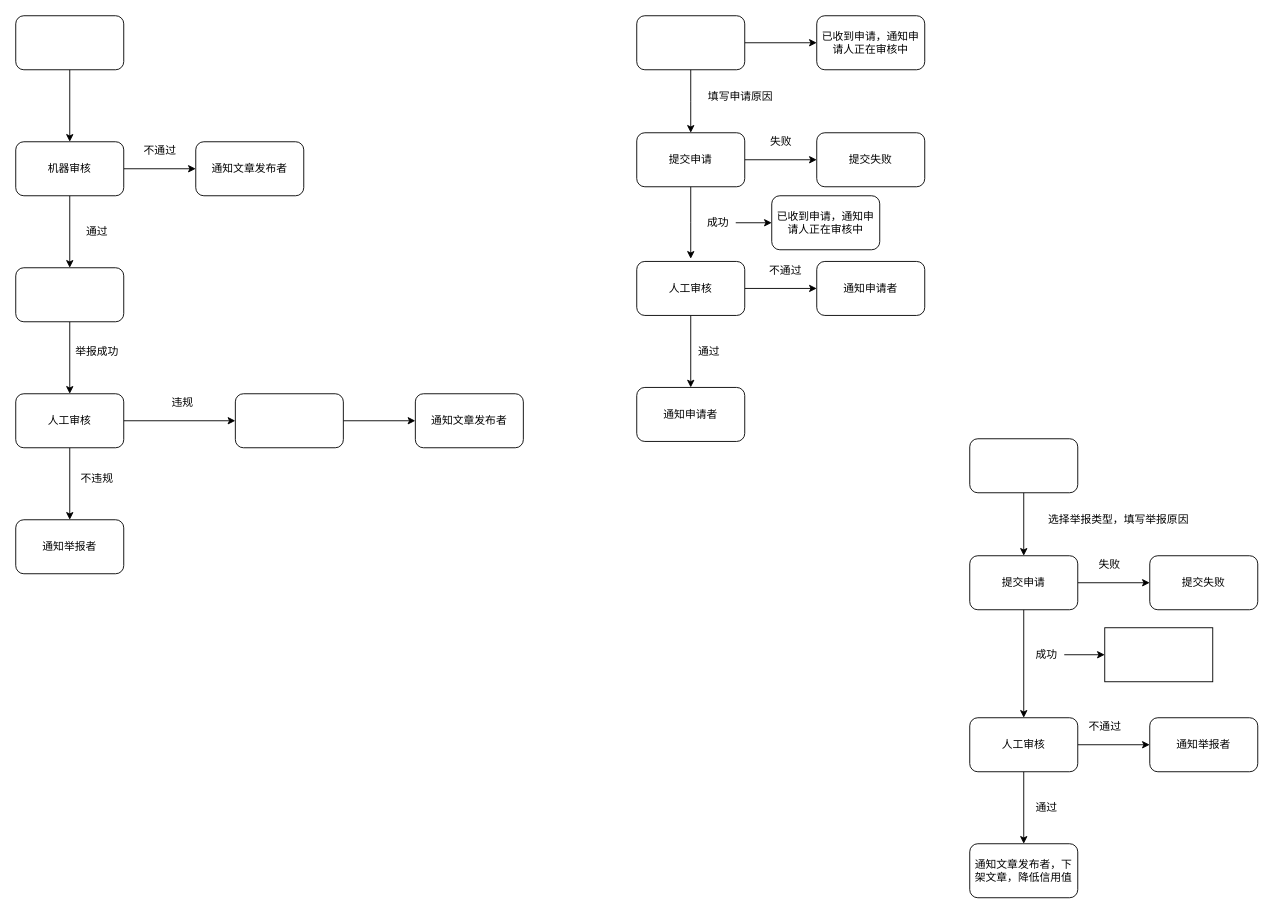
This 1274x914 diagram has some shape labels left out. Here are the shapes that lost their labels. From the top down, the centre of each, then its label:
At (x=69, y=42): "用户发布".
At (x=690, y=42): "申请恢复文章".
At (x=69, y=294): "文章被举报".
At (x=288, y=420): "下架".
At (x=1023, y=465): "举报文章".
At (x=1158, y=654): "已收到申请，通知举报人正在审核中".
